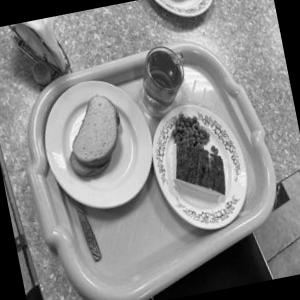bread: (51, 87, 140, 192)
casserole: (153, 104, 234, 216)
tea: (131, 35, 194, 125)
